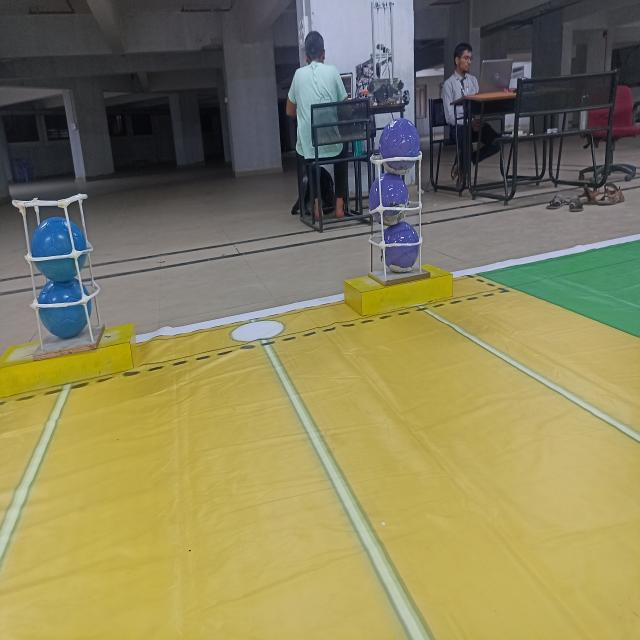blue_ball: (29, 215, 85, 276), (34, 219, 84, 280), (39, 277, 88, 333)
purple_ball: (380, 119, 420, 170), (384, 222, 420, 269), (370, 173, 409, 214)
silo: (12, 192, 105, 348), (367, 151, 432, 287)
